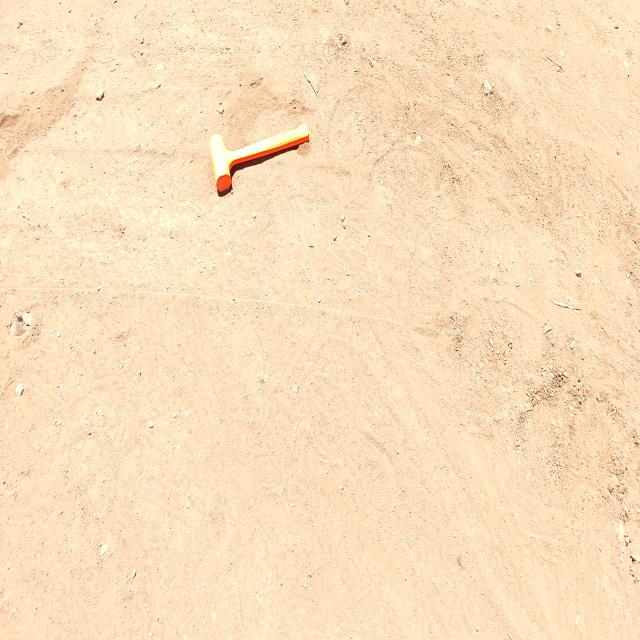Orange_hammer: (208, 121, 310, 195)
